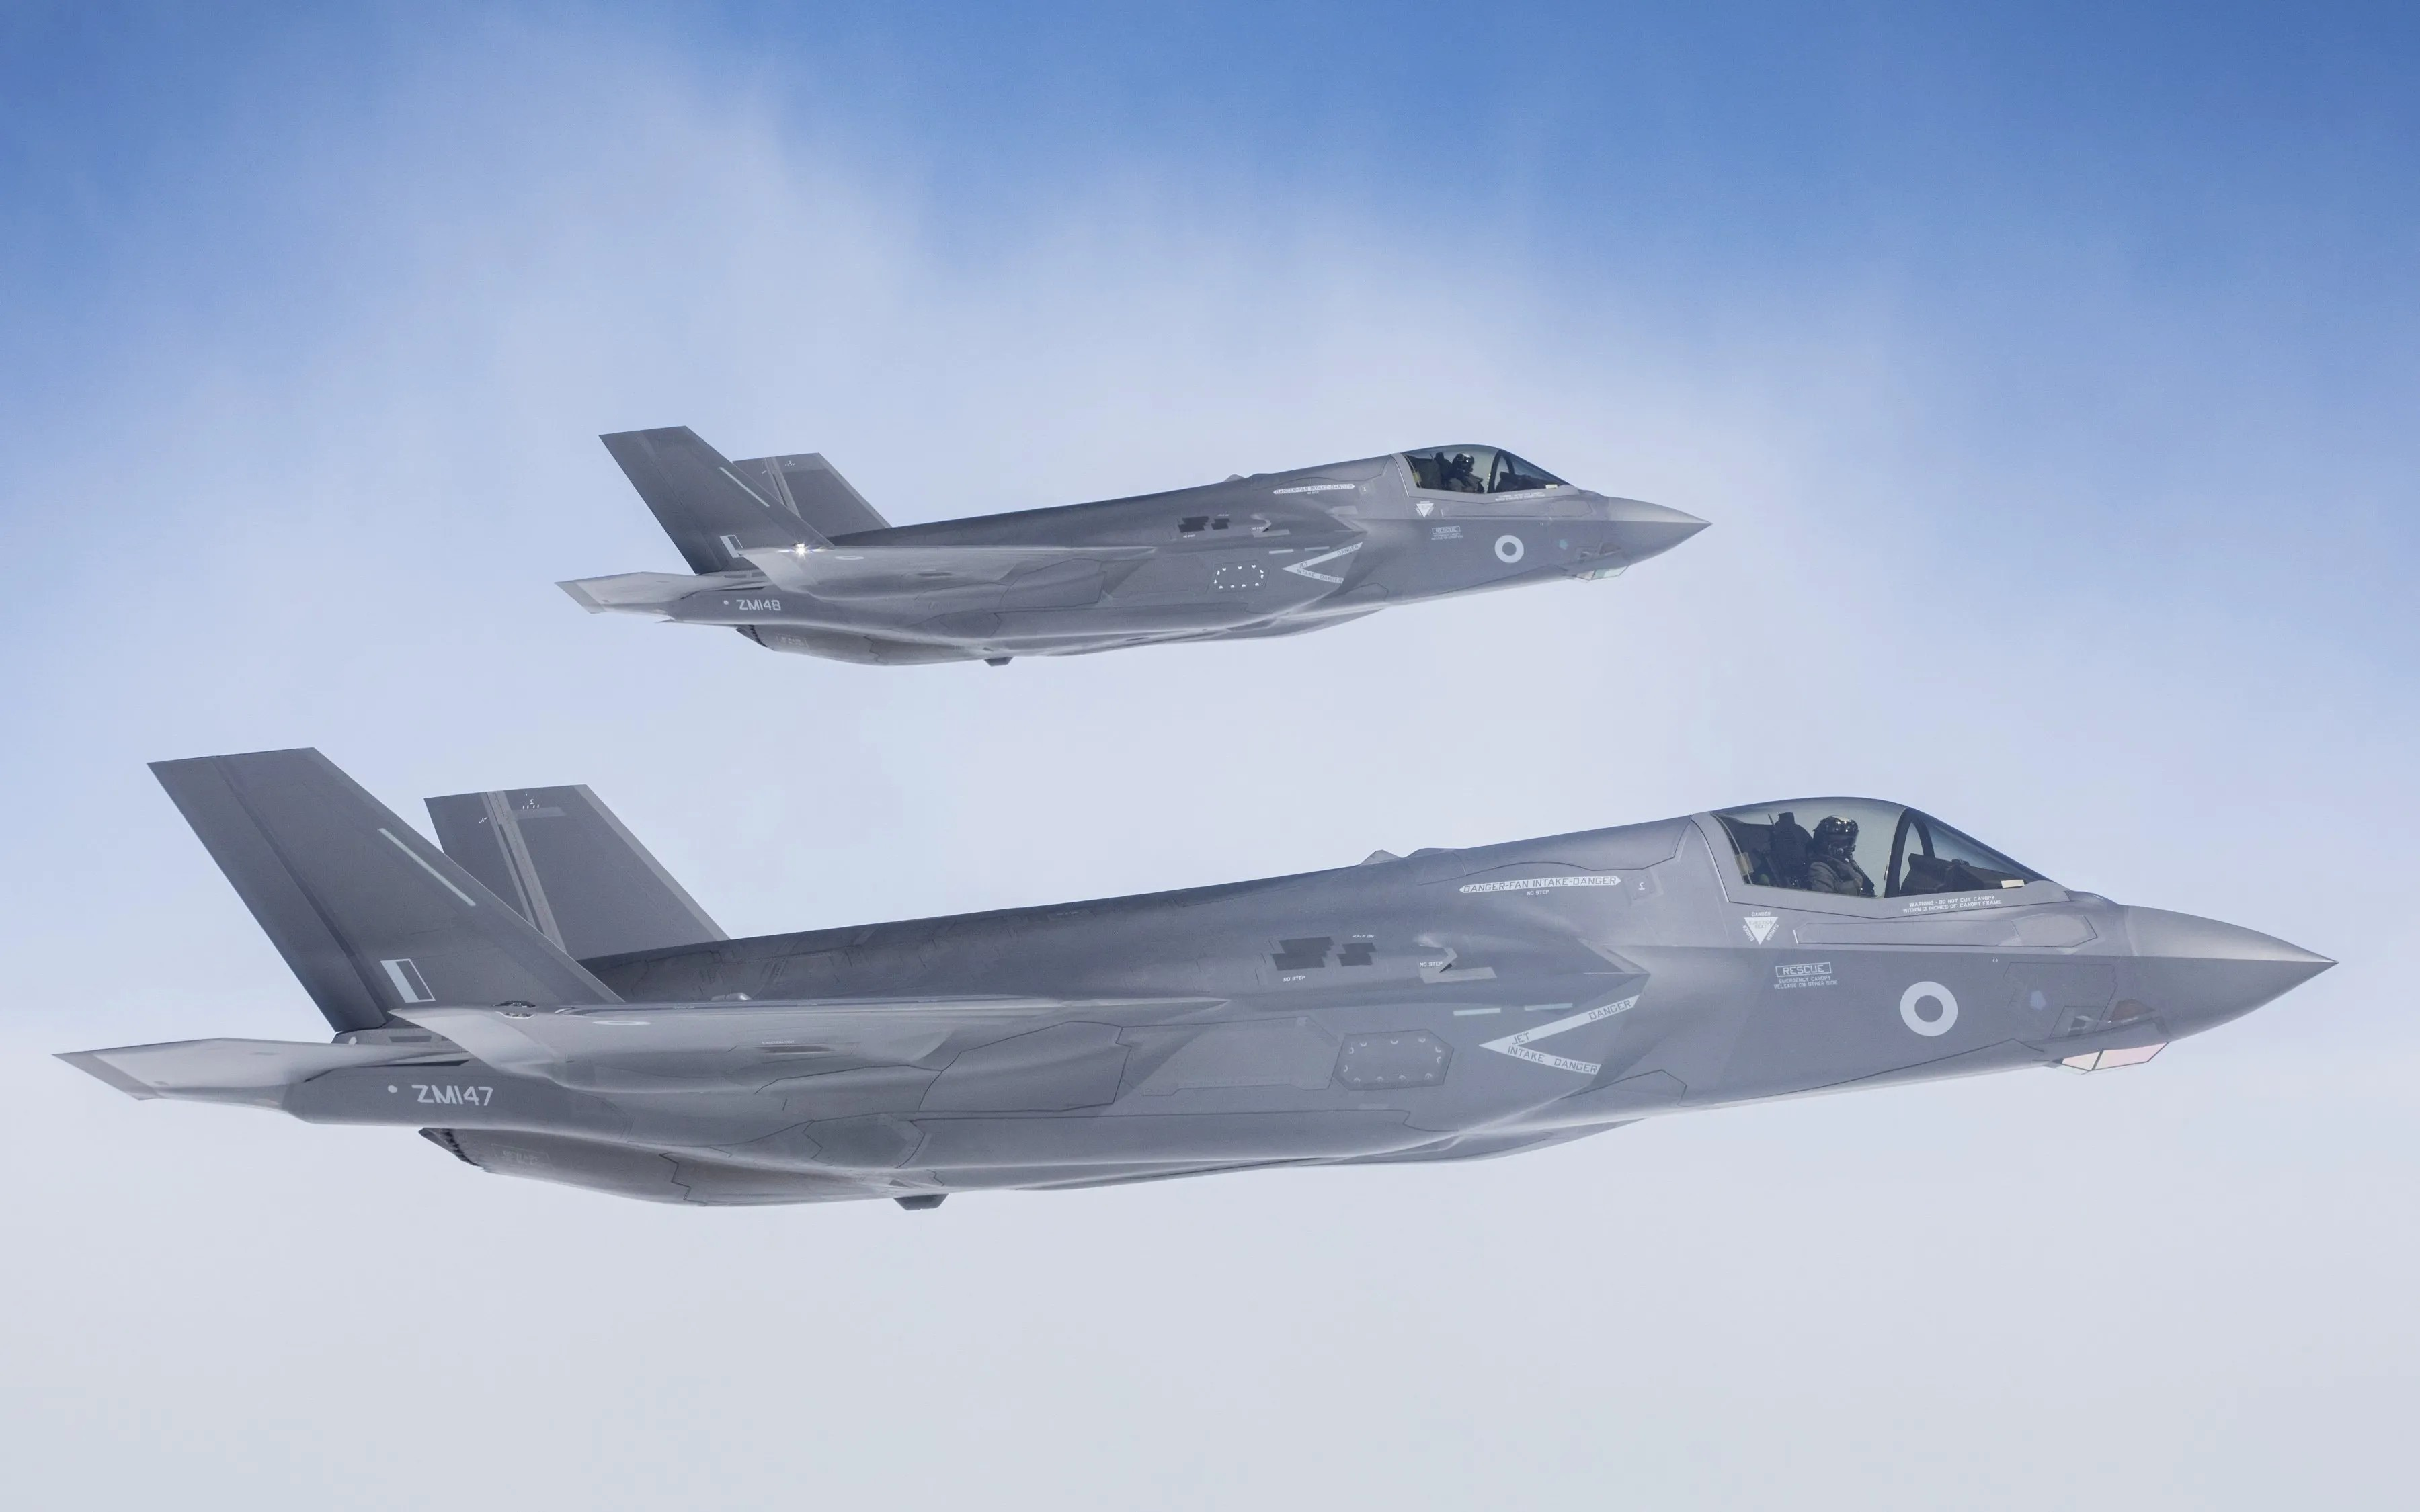F-35 Lightning: (68, 711, 2359, 1239), (524, 338, 1767, 676)
